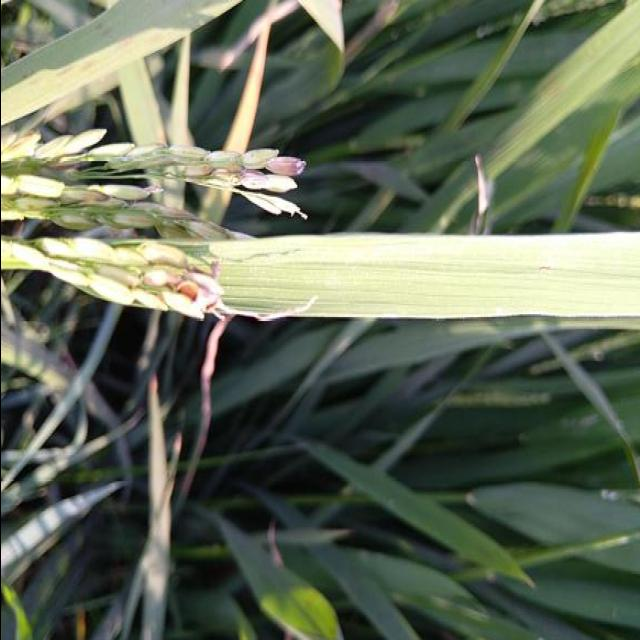Leaf Streak: (223, 23, 268, 154), (198, 189, 230, 225)
Panicle Blight: (167, 144, 305, 216), (96, 254, 227, 321), (0, 188, 179, 235)
